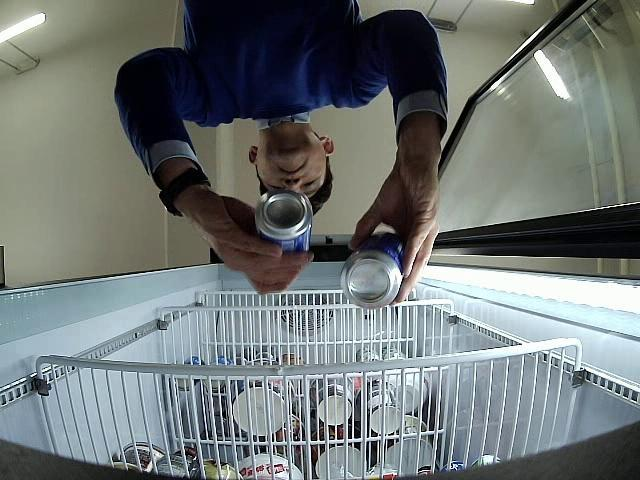13_pocariSweat: (340, 232, 406, 310), (250, 188, 312, 253)
